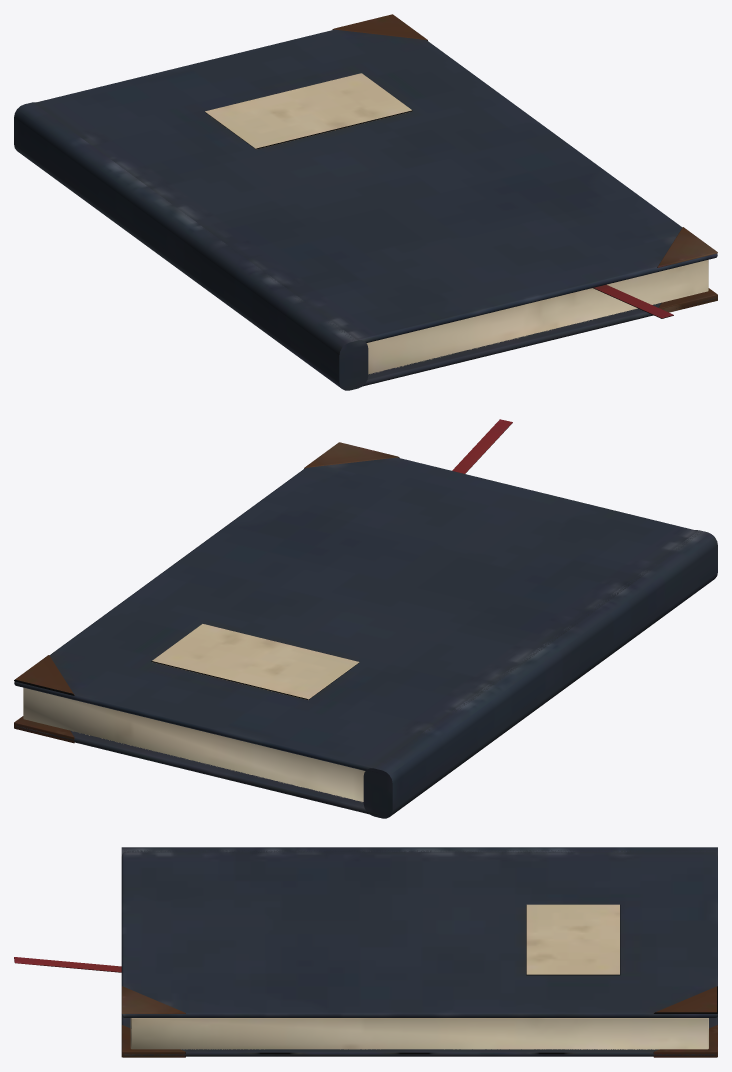
Rendered from scorebook.glb.
The picture shows the model from 3 angles, top to bottom: view 1: azimuth 30°, elevation 25°; view 2: azimuth 150°, elevation 25°; view 3: azimuth 270°, elevation 25°; orthographic projection. The views are drawn at different scales.
Visible parts, largest first — view 1: cover, book; view 2: cover, book; view 3: cover, book.
Part boxes in pixels (bbox=[...]): cover: bbox=[34, 14, 717, 344]; book: bbox=[14, 102, 717, 390]; cover: bbox=[14, 442, 700, 772]; book: bbox=[14, 419, 717, 818]; cover: bbox=[121, 850, 717, 1017]; book: bbox=[14, 847, 717, 1057].
Bounding box in the file's own units: 0.222 × 0.03 × 0.3896.
Materials: 1 (1 with a texture image).
